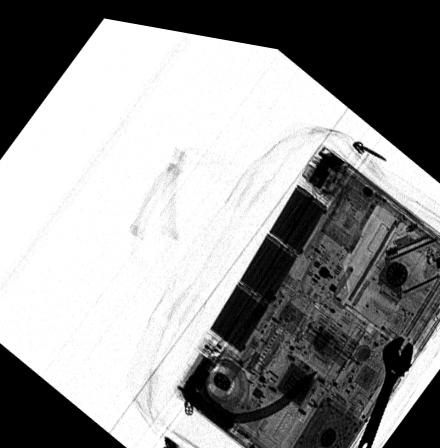Wrench: (356, 319, 413, 441)
